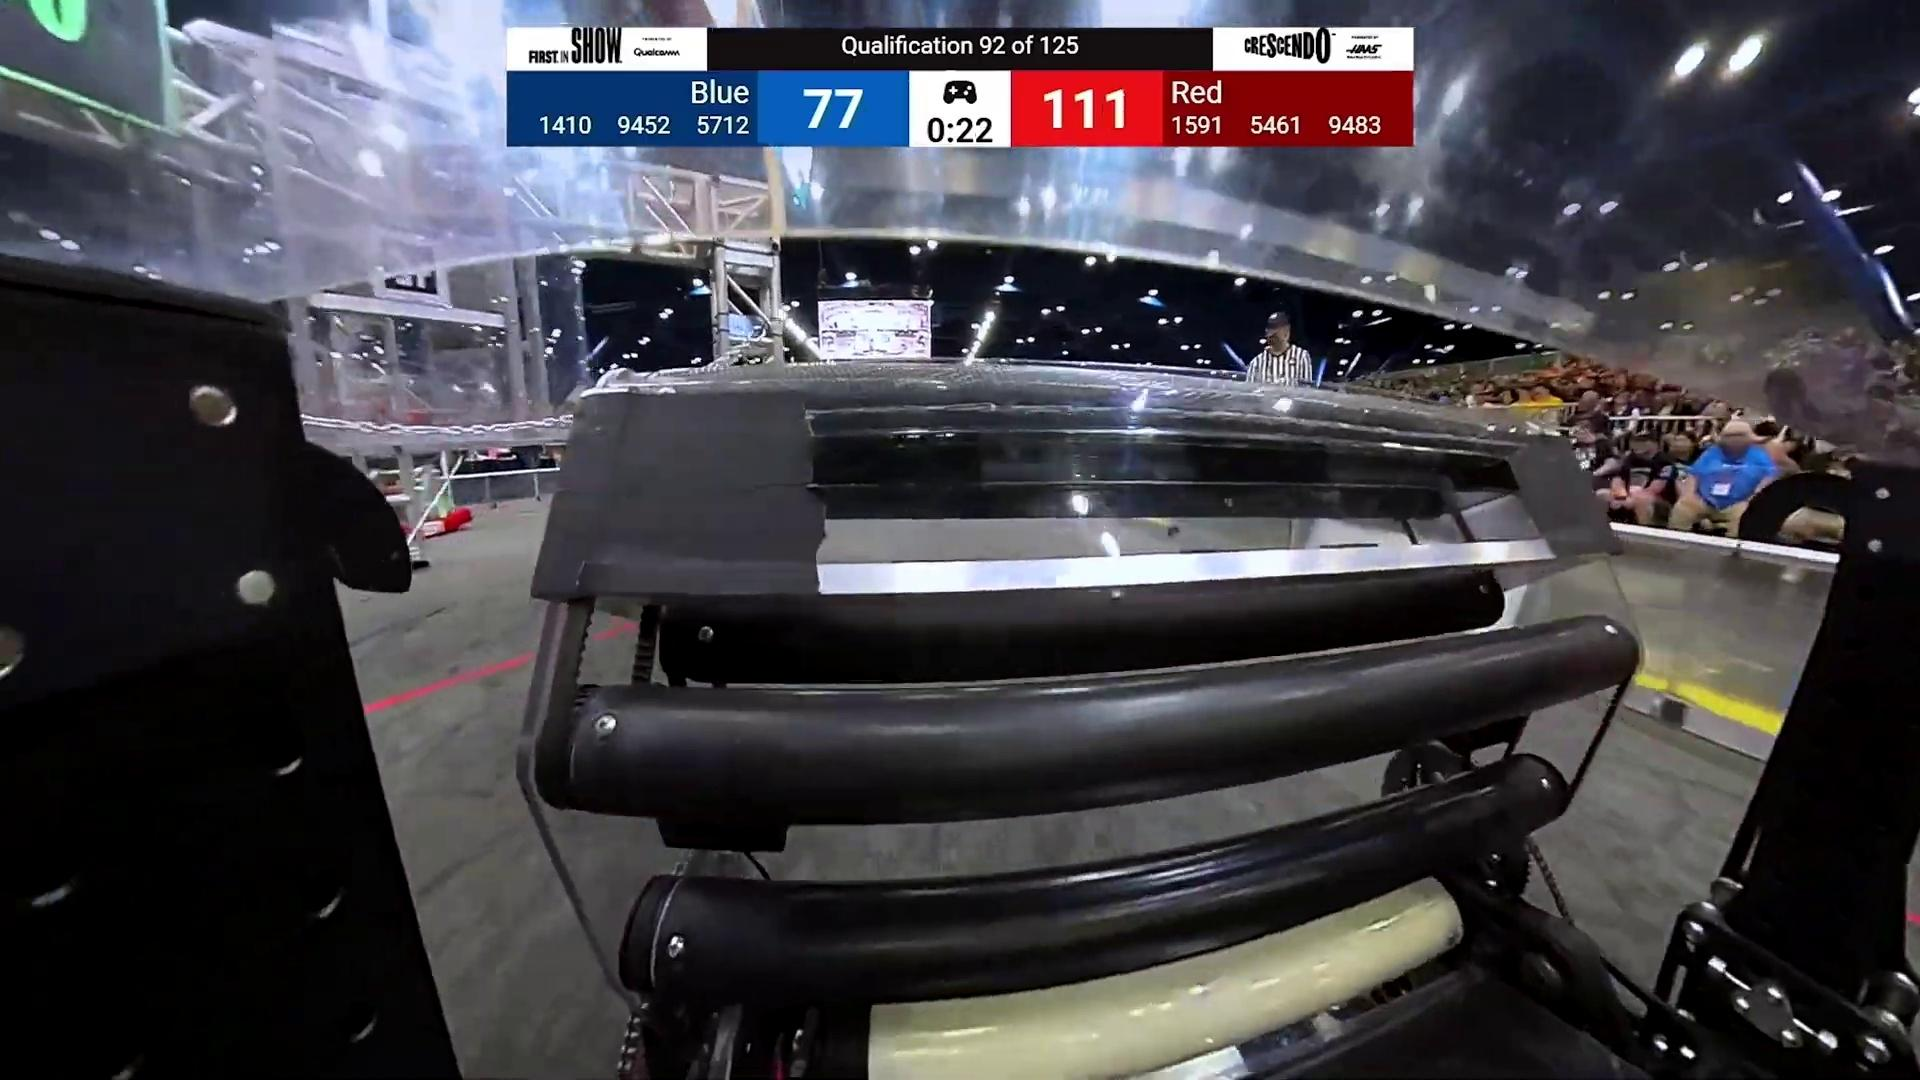robot: (401, 489, 471, 538)
